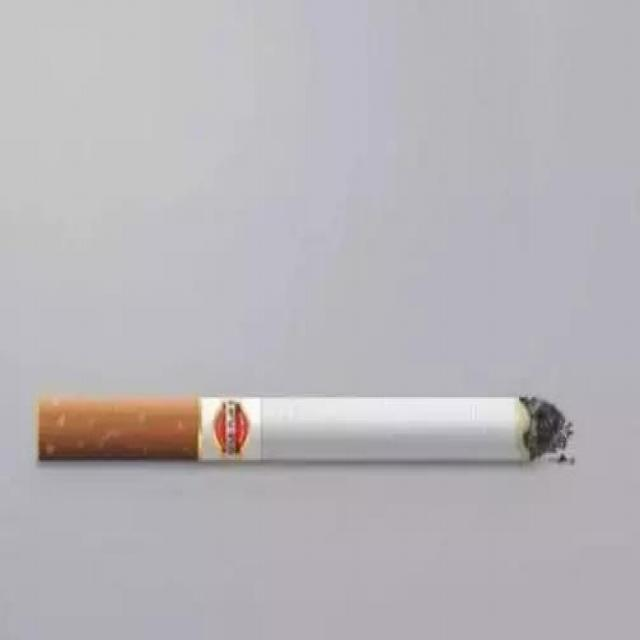cigarette: (31, 390, 580, 473)
